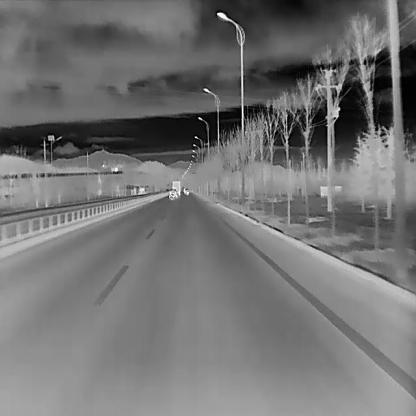car: (171, 180, 181, 195), (168, 187, 178, 198), (183, 188, 189, 195)
